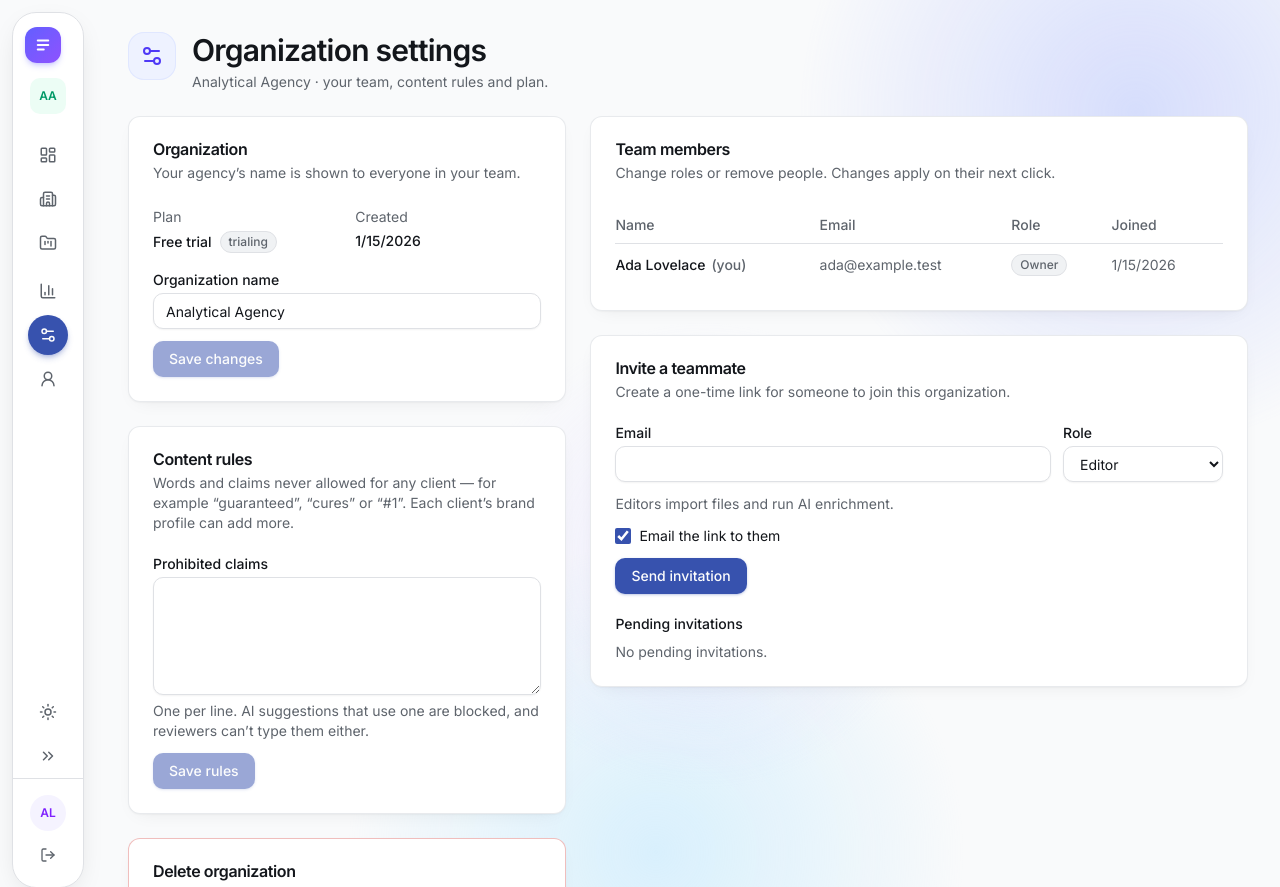
Test: emailed invitations › offers to email the link and says when it did
Check: the checkbox labelled "Email the link to them" is checked, box [615,528,631,544]
In the field labelled "Email": (833, 464) [615,446,1051,482], type "new@example.test"
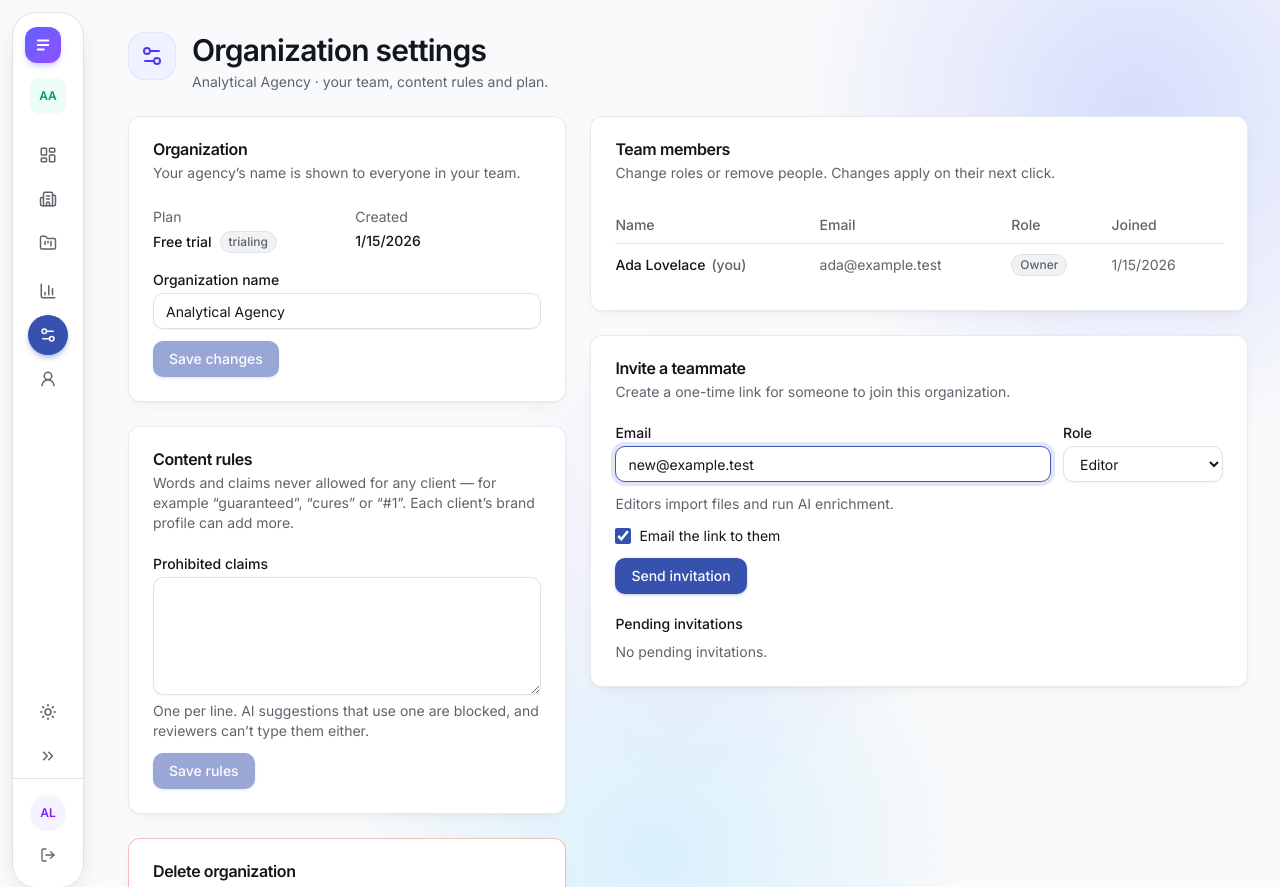
Click the button "Send invitation": (681, 576) [615,558,747,594]
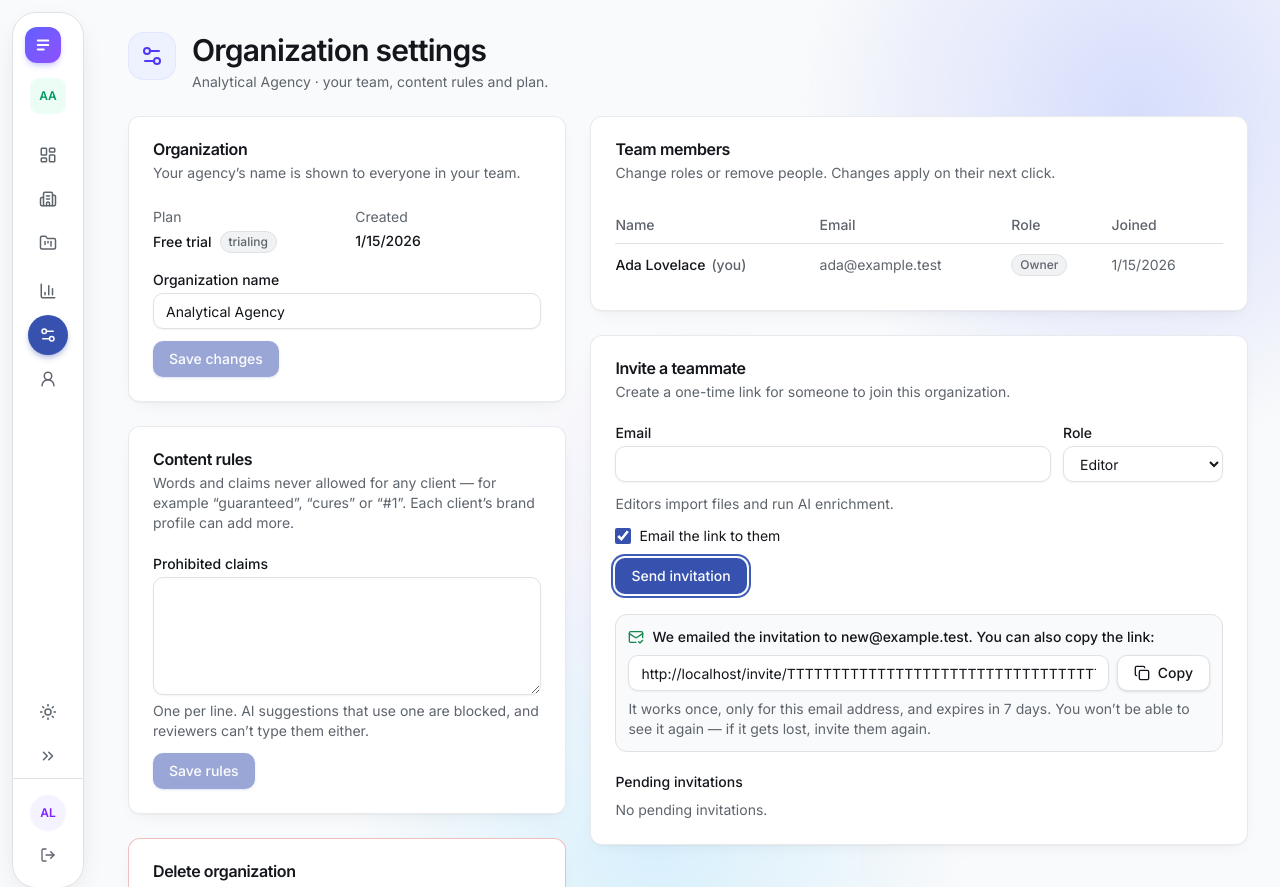
Check: the text "We emailed the invitation to new@example.test. You can also copy the link:" is shown, box [628,627,1210,647]
